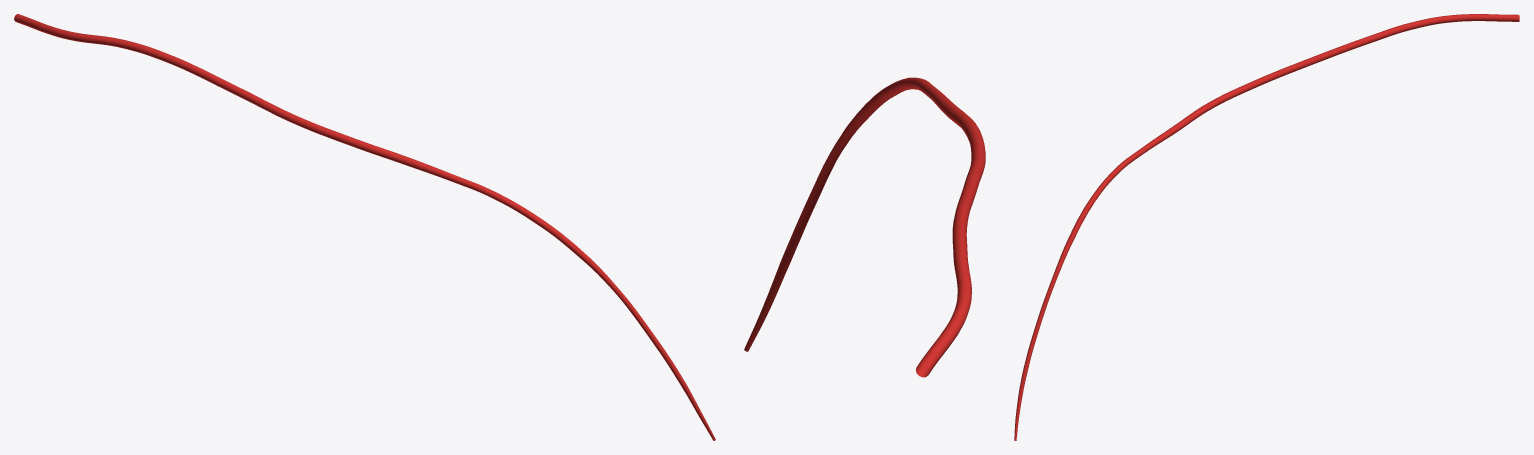
File: circulatorio-frontal-branch-of-superficial-temporal-artery-r.glb
3 views of the same model, side by side, from view 1: azimuth 30°, elevation 25°; view 2: azimuth 150°, elevation 25°; view 3: azimuth 270°, elevation 25° (orthographic). The views are drawn at different scales.
Parts seen in each view (by area): view 1: Frontal branch of superficial temporal artery.r; view 2: Frontal branch of superficial temporal artery.r; view 3: Frontal branch of superficial temporal artery.r.
Boxes of the visible parts, x1,y1,x2,y2 form: Frontal branch of superficial temporal artery.r: [14, 14, 715, 440]; Frontal branch of superficial temporal artery.r: [744, 77, 985, 377]; Frontal branch of superficial temporal artery.r: [1014, 14, 1519, 440].
Bounding box in the file's own units: 0.0333 × 0.0249 × 0.0424.
